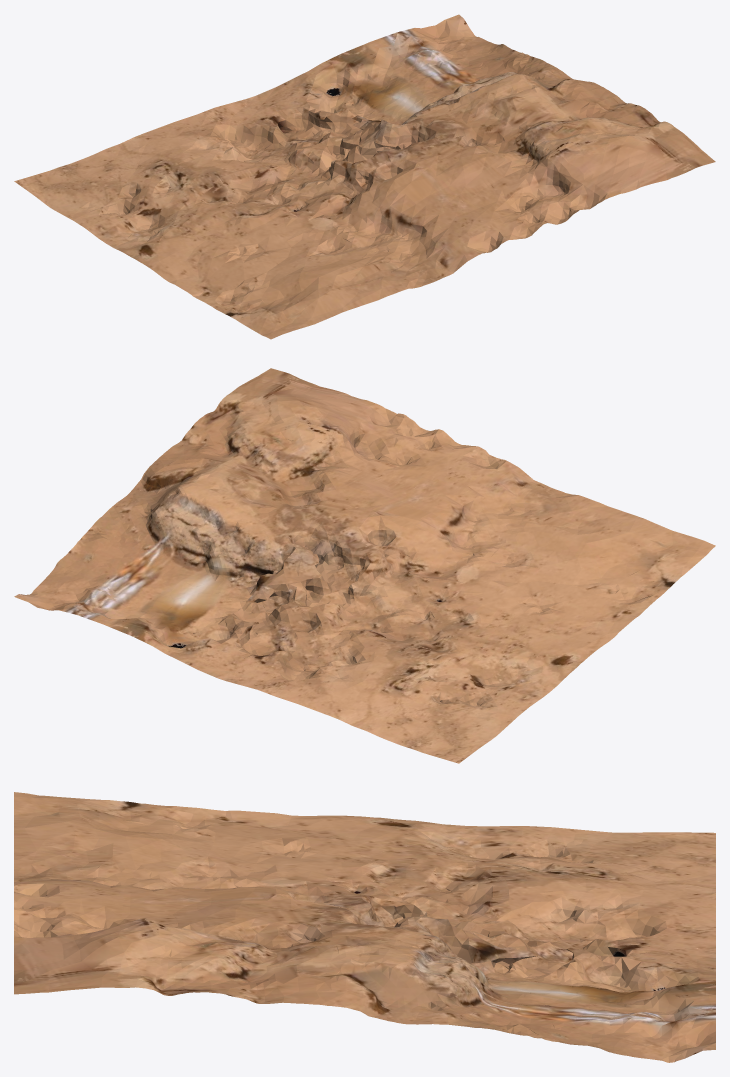
The picture shows the model from 3 angles, top to bottom: view 1: azimuth 30°, elevation 25°; view 2: azimuth 150°, elevation 25°; view 3: azimuth 270°, elevation 25°; orthographic projection. The views are drawn at different scales.
Bounding box in the file's own units: 2.09 × 0.4868 × 2.09.
Materials: 3 (3 with a texture image).
